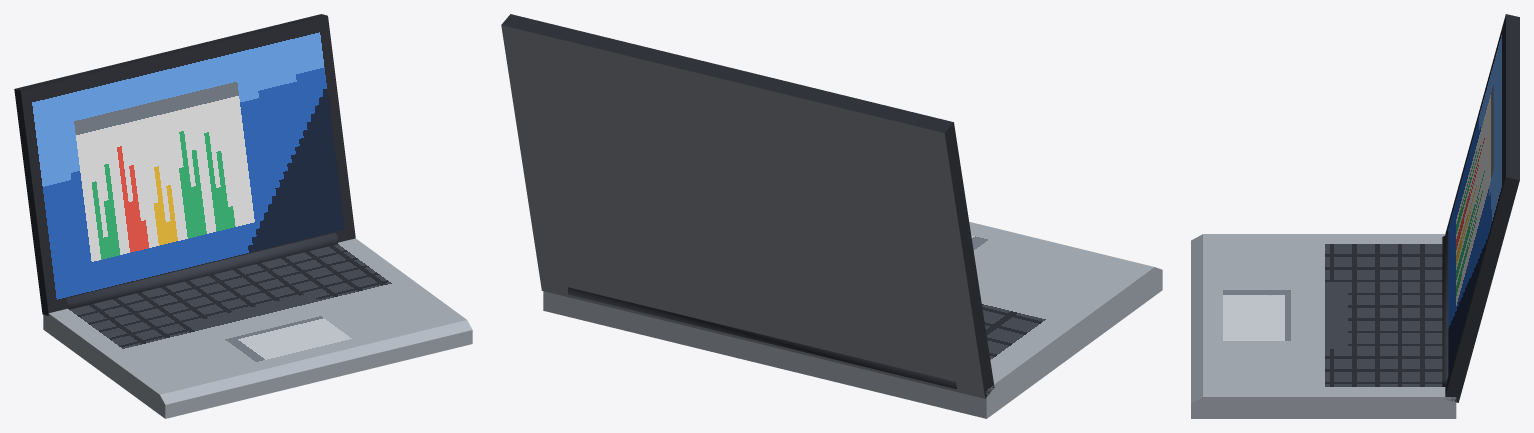
Rendered from around-laptop.glb.
3 views of the same model, side by side, from view 1: azimuth 30°, elevation 25°; view 2: azimuth 150°, elevation 25°; view 3: azimuth 270°, elevation 25° (orthographic). The views are drawn at different scales.
Visible parts, largest first — view 1: around.laptop; view 2: around.laptop; view 3: around.laptop.
Part boxes in pixels (box(x1,y1,x2,y2)): around.laptop: box(14, 14, 472, 418); around.laptop: box(501, 14, 1162, 418); around.laptop: box(1191, 14, 1519, 418).
Size of the model in its own units: 1.35 by 0.9314 by 1.15.
Materials: 6 (3 with a texture image).
